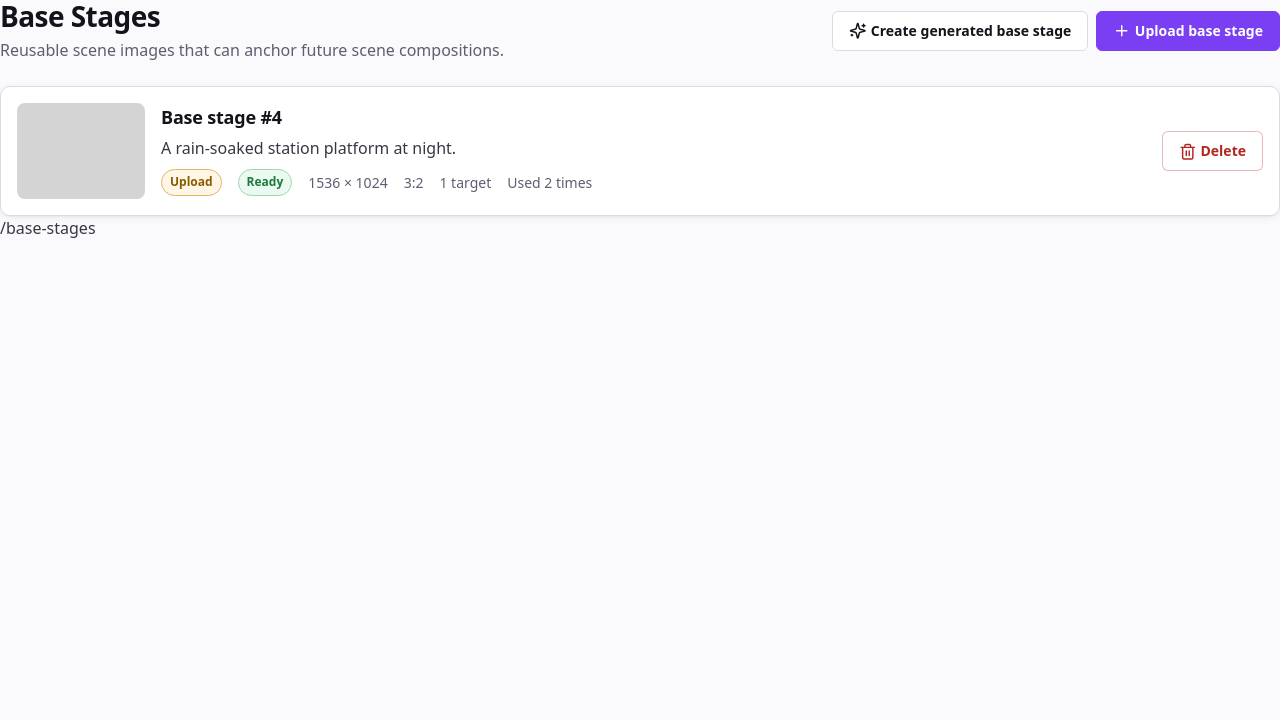
Test case: BaseStageListPage › archives after explaining that stored content and links are preserved
This screenshot has width=1280, height=720.
Click the button "Delete" at (1212, 151), box x1=1162 y1=131 x2=1263 y2=171
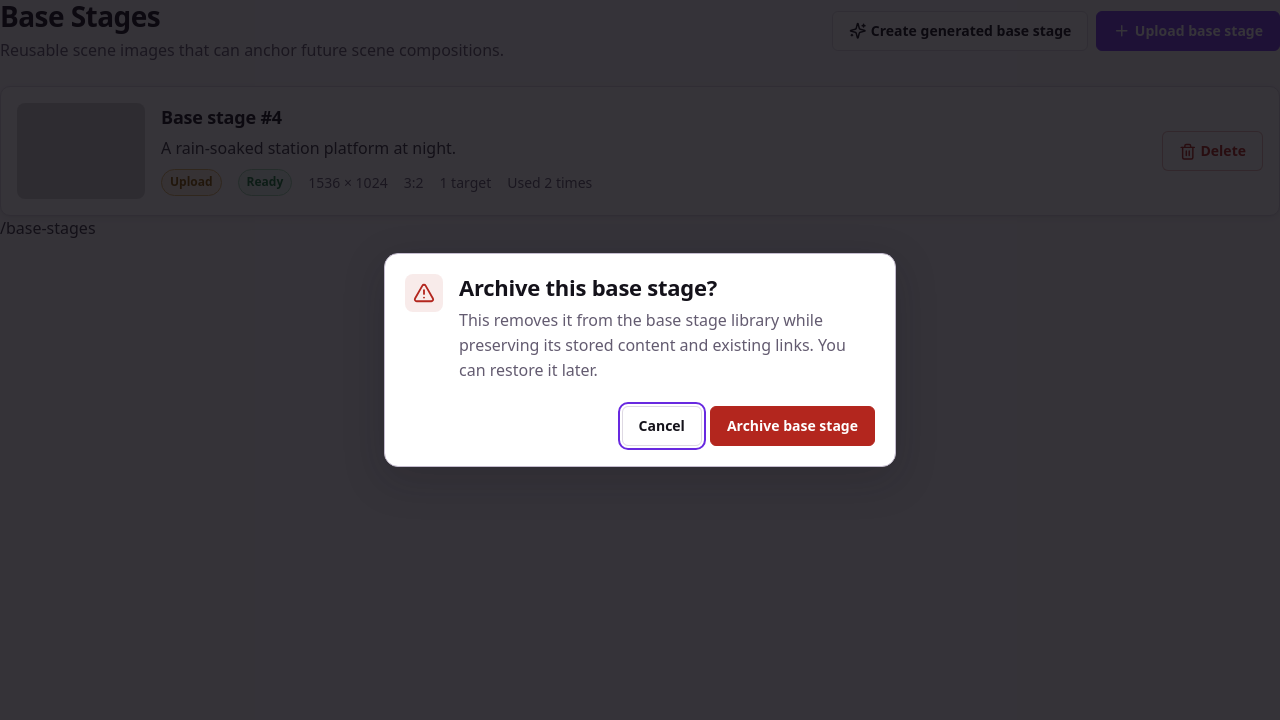
Now the text "preserving its stored content and existing links" is shown, box x1=459 y1=309 x2=846 y2=381
Click the button "Archive base stage" at (792, 426), box x1=710 y1=406 x2=875 y2=446
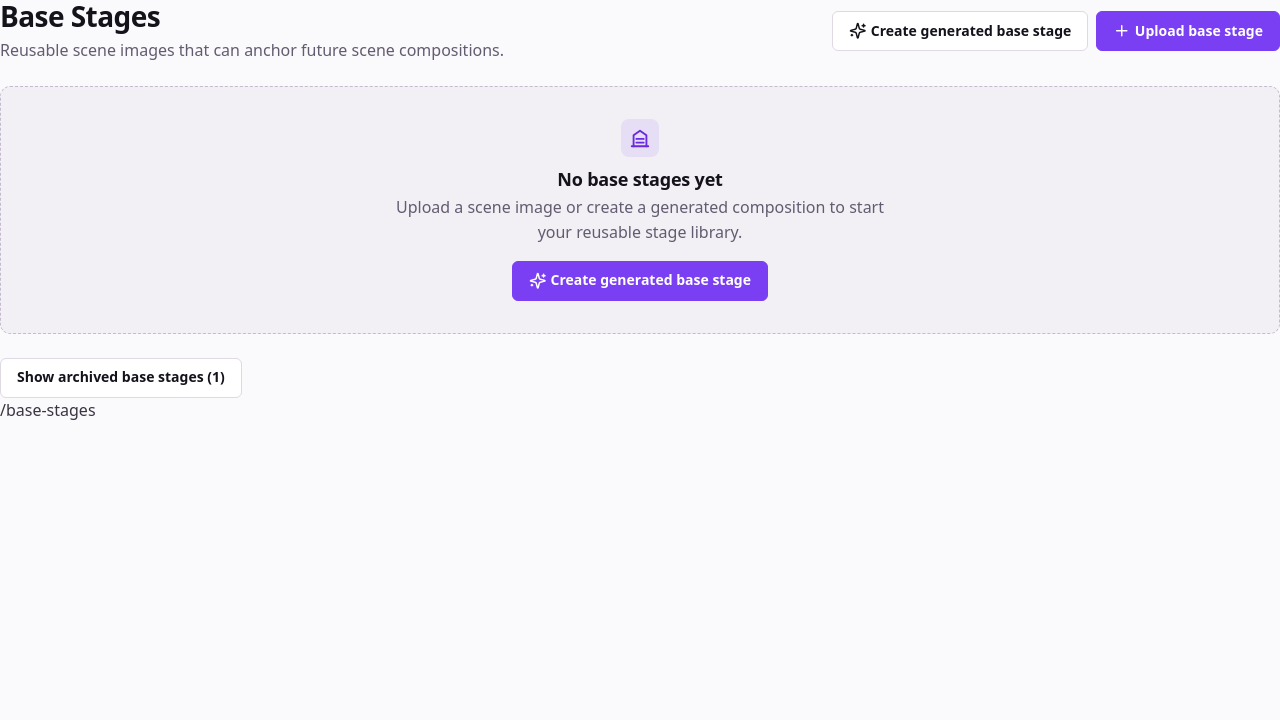
Now the button "Show archived base stages (1)" is shown, box x1=0 y1=358 x2=242 y2=398
